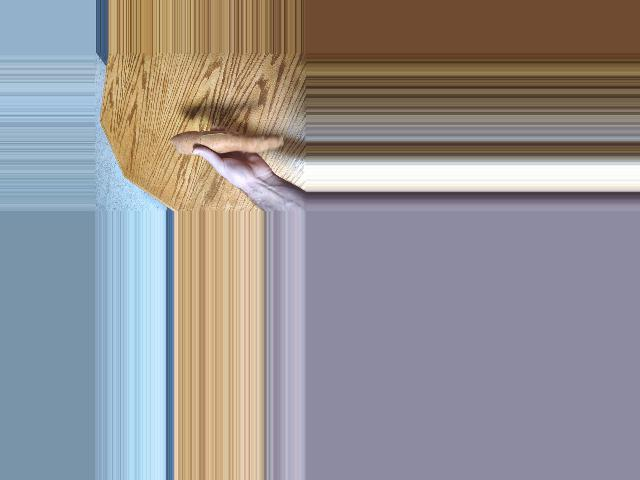sweet_potato: (176, 127, 283, 159)
